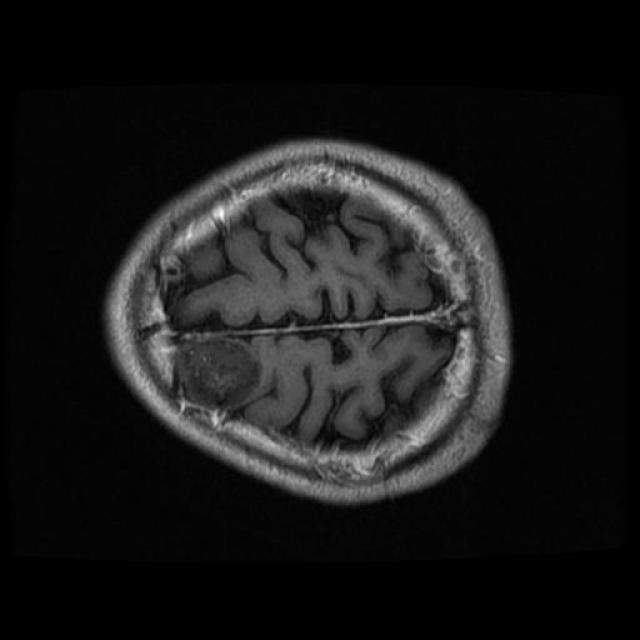Glioma: (176, 337, 259, 408)
